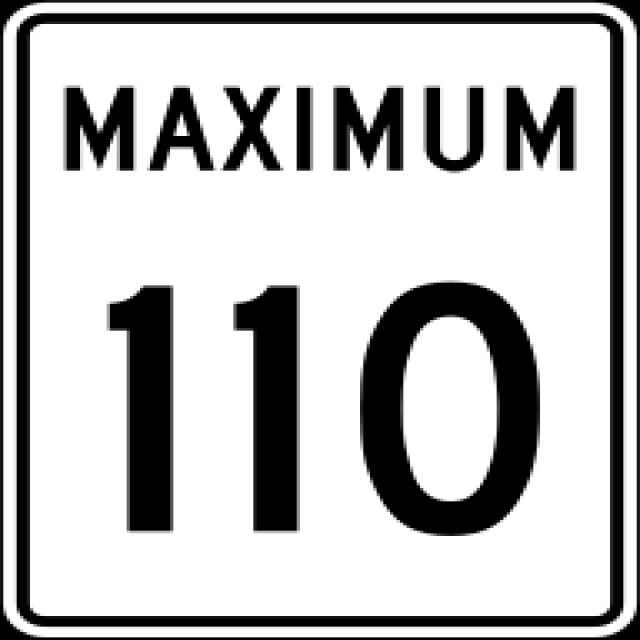Speed Limit -110-: (67, 246, 571, 547)
